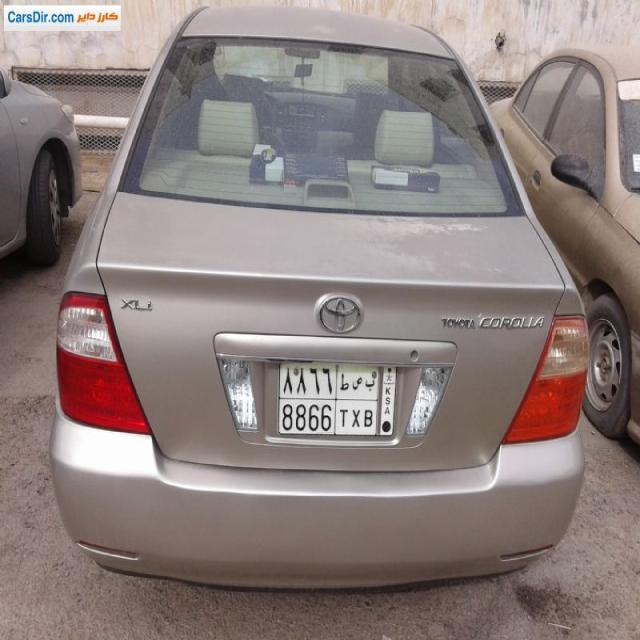license_plate: (277, 354, 399, 445)
